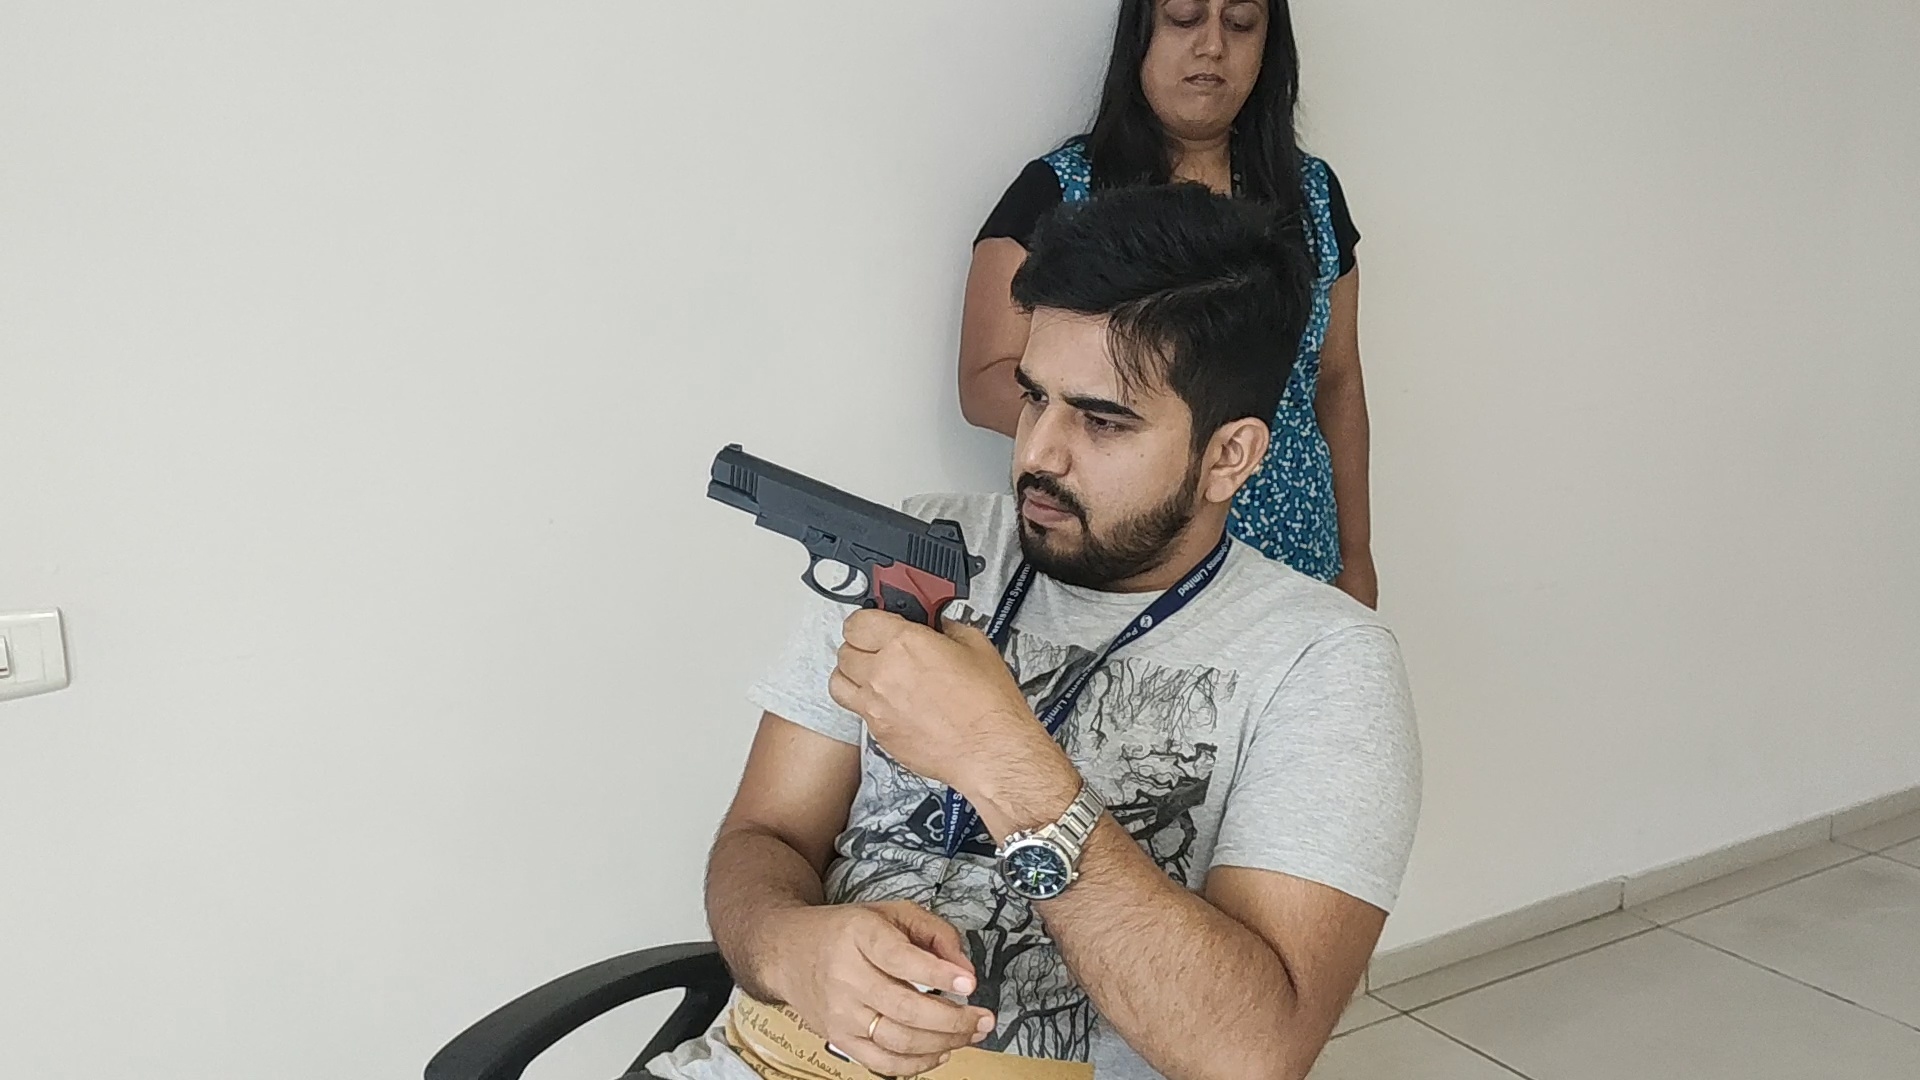gun: (705, 442, 988, 621)
